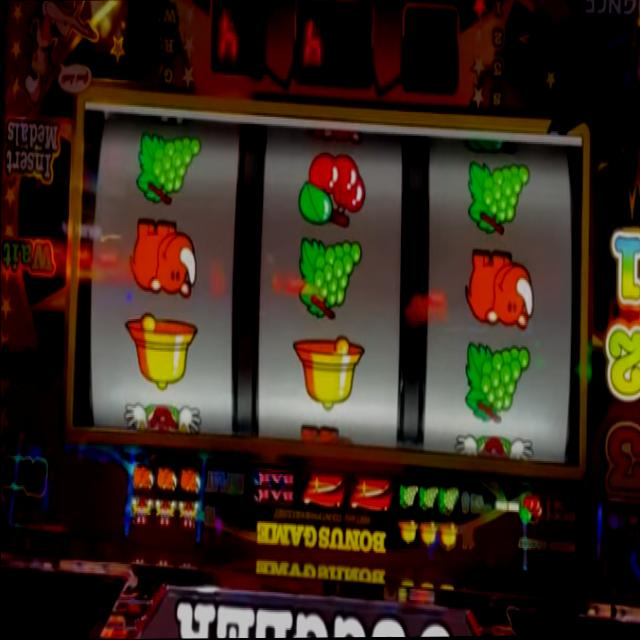bar: (248, 466, 298, 505)
bell: (123, 308, 199, 393), (292, 334, 363, 412), (398, 517, 417, 556), (418, 518, 438, 555), (438, 520, 458, 554)
cherry: (296, 148, 366, 231), (518, 490, 542, 529)
clown: (122, 400, 202, 434), (453, 432, 532, 463), (178, 496, 200, 532), (154, 496, 174, 532), (130, 496, 152, 528)
display: (72, 102, 582, 466)
elephant: (462, 245, 534, 332), (127, 217, 197, 301), (296, 421, 356, 449), (154, 464, 177, 497), (130, 465, 154, 493), (178, 465, 200, 495)
grape: (296, 233, 362, 325), (462, 338, 530, 427), (133, 128, 200, 207), (466, 159, 530, 239), (438, 483, 459, 515), (418, 483, 437, 515), (398, 483, 418, 513)
z: (348, 472, 392, 514), (301, 470, 346, 511)
